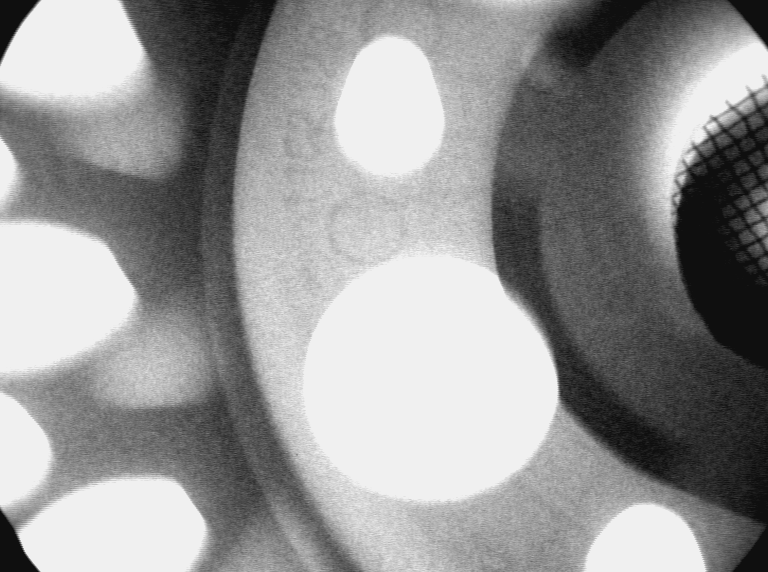defect: (519, 33, 579, 99)
